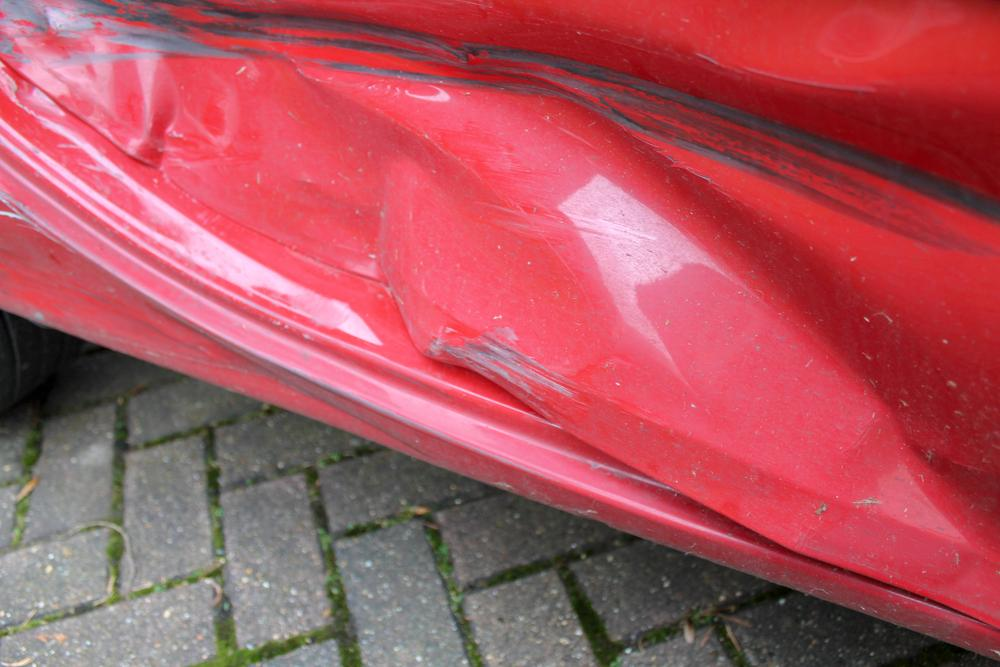dent: (0, 0, 1000, 552)
